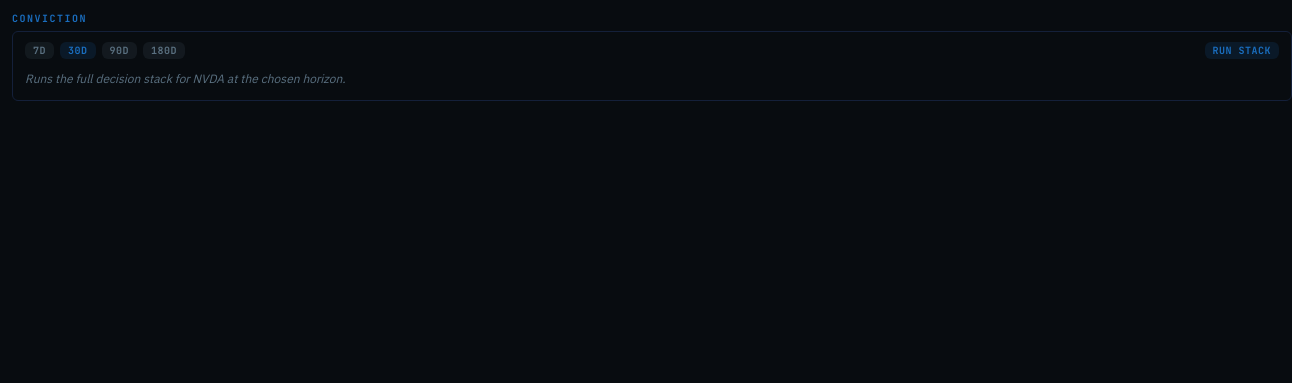
Test: ConvictionCard › runs the stack on demand at the chosen horizon and renders the verdict and why
The width and height of the screenshot is (1292, 383).
Expected: the text "Runs the full decision stack for NVDA at the chosen horizon." is shown, [25,71,346,86]
Step 1. Click the button "90d" → click(119, 50), box [102,42,137,59]
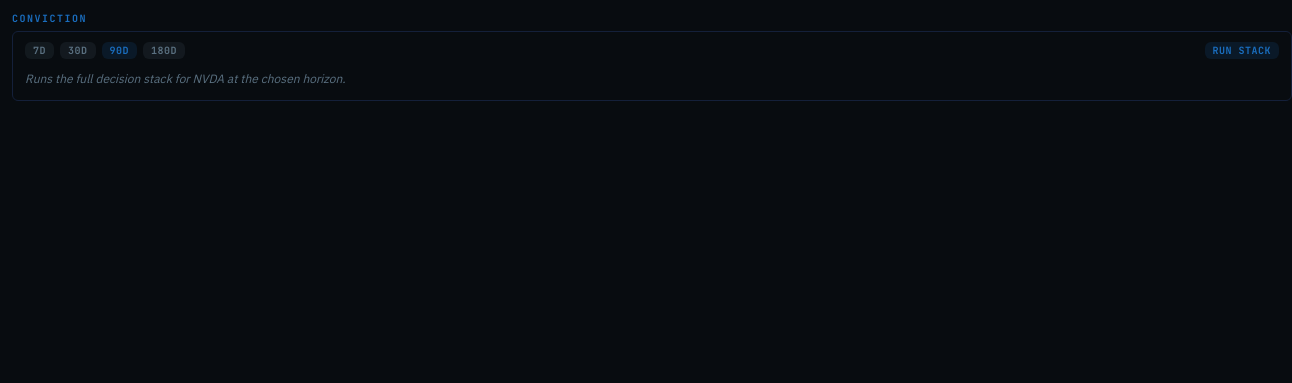
Step 2. Click the button "Run stack" → click(1242, 50), box [1204,42,1279,59]
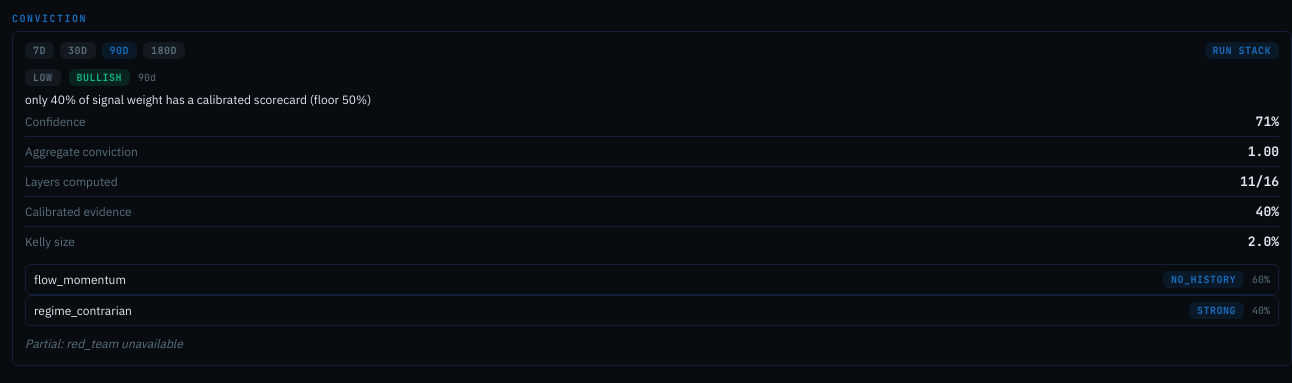
Expected: the element with test id "conviction-result" is shown
Expected: the text "LOW" is shown, [25,69,60,86]
Expected: the text "only 40% of signal weight" is shown, [25,92,371,107]
